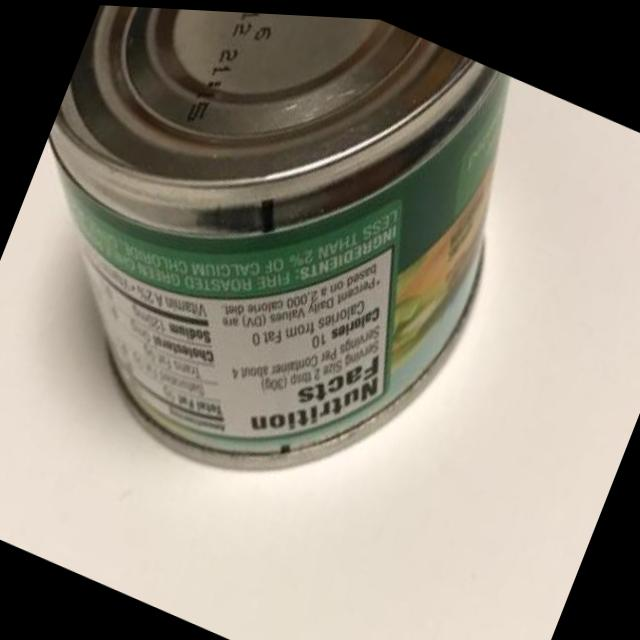metal: (0, 0, 503, 626)
